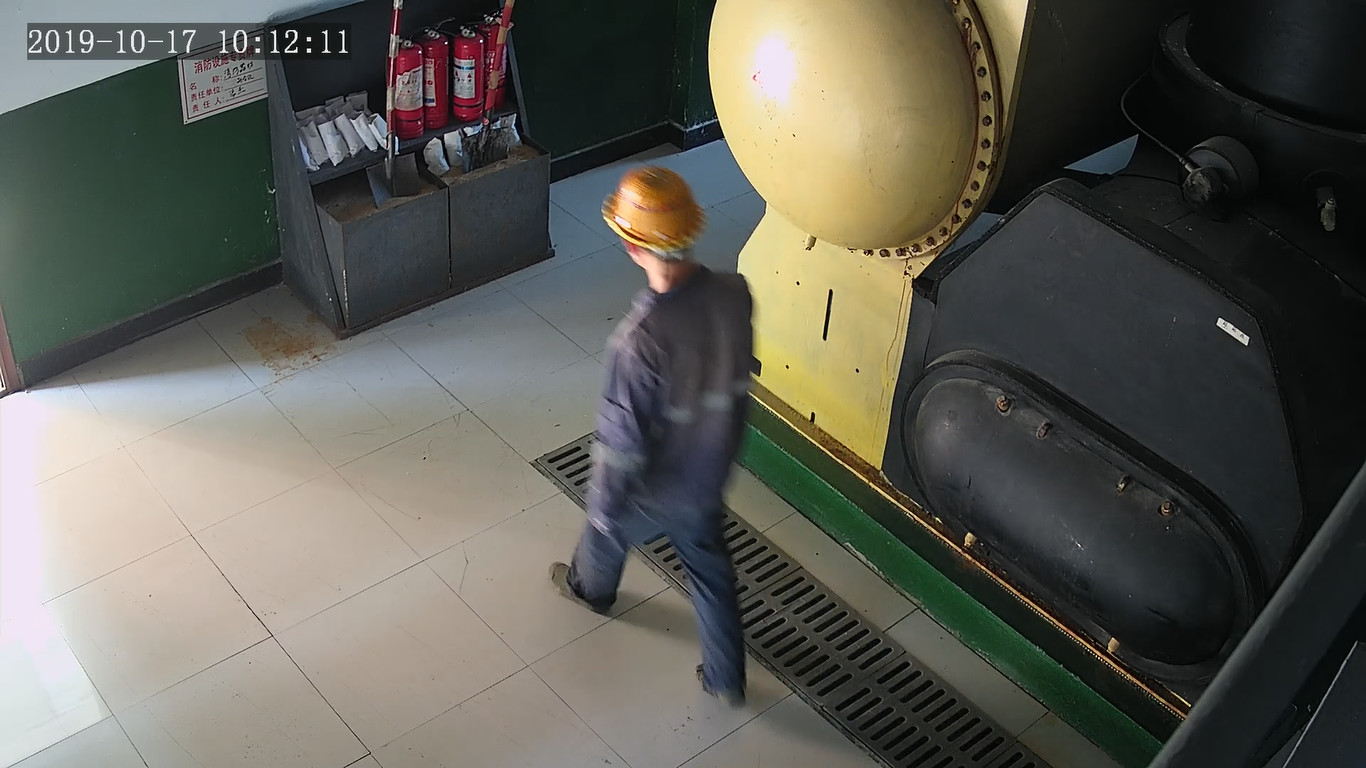helmet: (600, 164, 707, 253)
